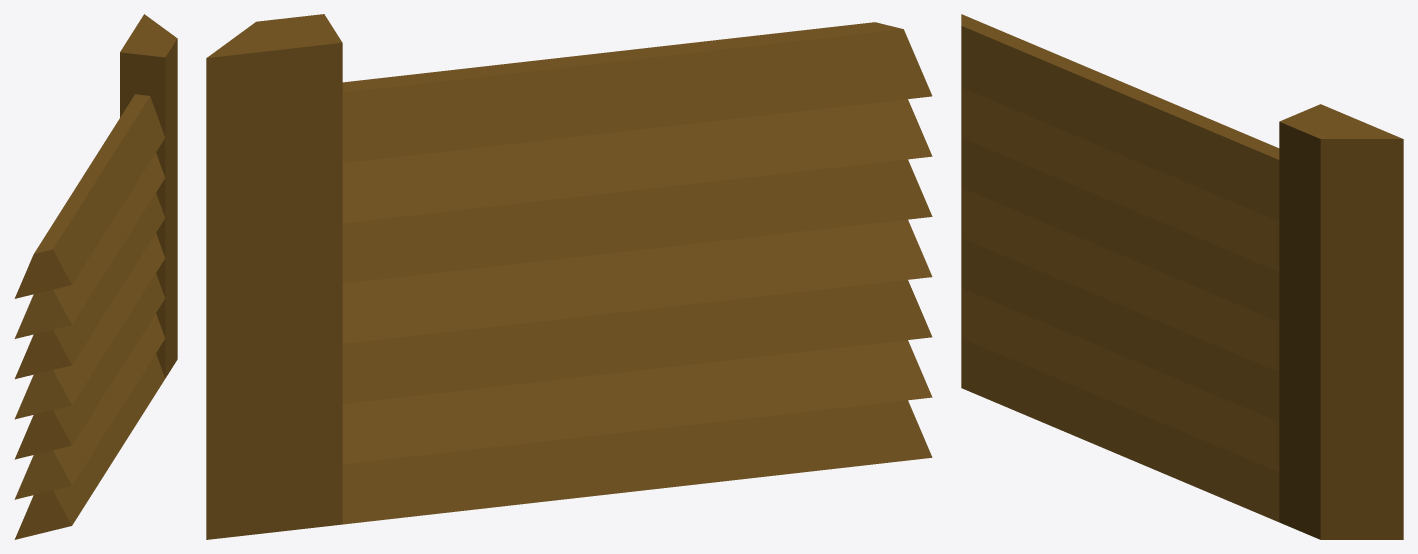
3 views of the same model, side by side, from view 1: azimuth 30°, elevation 25°; view 2: azimuth 150°, elevation 25°; view 3: azimuth 270°, elevation 25° (orthographic). The views are drawn at different scales.
Bounding box in the file's own units: 128 × 128 × 128.
1 material, 1 textured.
